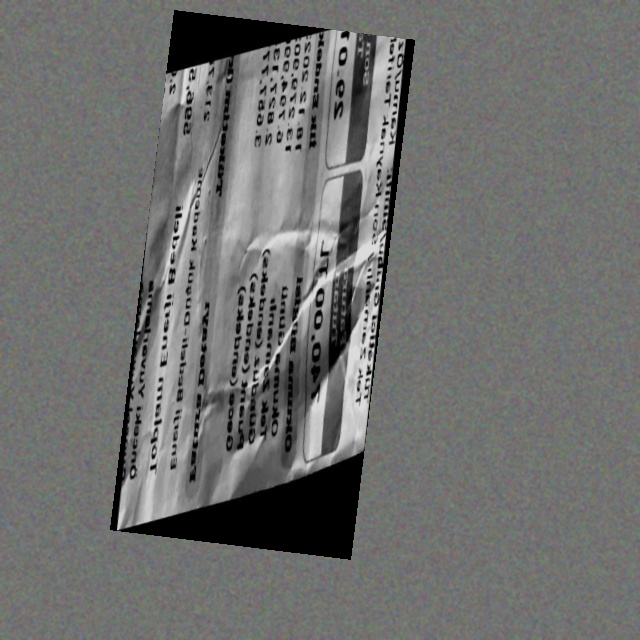electricity-bill: (110, 9, 414, 559)
